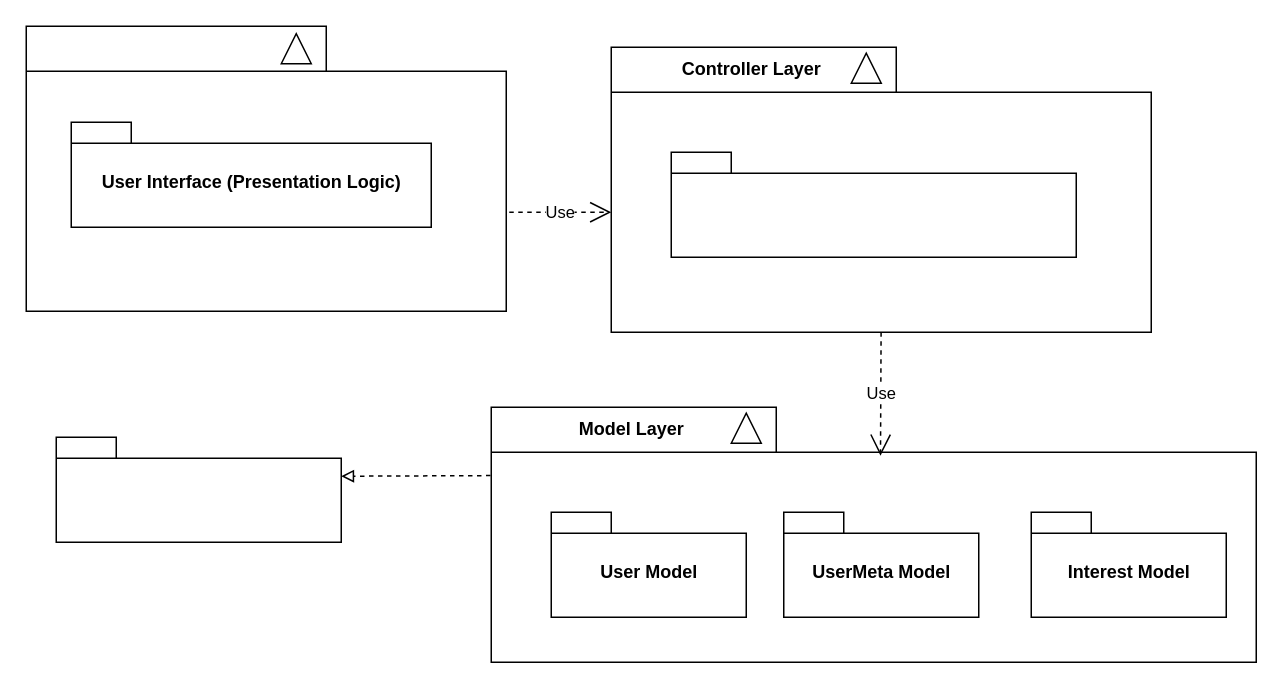
Some shapes in this 1283 by 689 pixel diagram are drawn without their labels. The shapes that lost their labels are listed below. From the top down, each one's box as (x1, y1, x2, y2) in pixels, then its label:
(25, 25, 506, 311): View Layer
(670, 151, 1076, 257): User Controller (Business Logic)
(55, 436, 341, 542): MySQL Database (dbname.sql)
